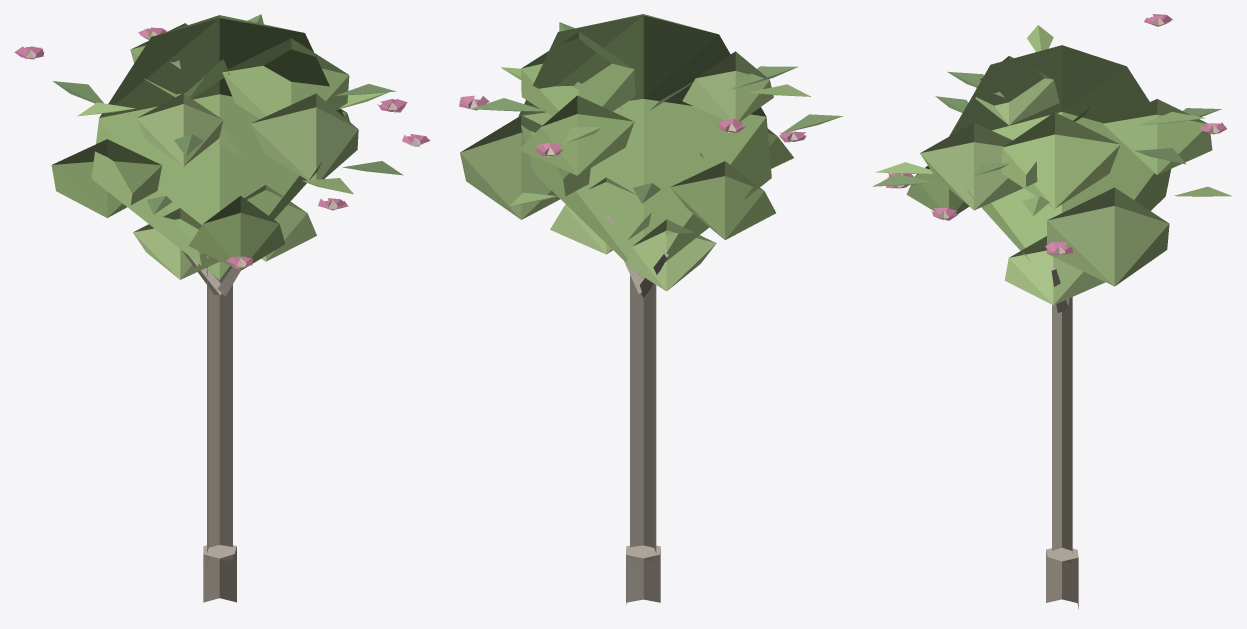
The model's file is shu.baigan__bloom.glb.
3 views of the same model, side by side, from view 1: azimuth 30°, elevation 25°; view 2: azimuth 150°, elevation 25°; view 3: azimuth 270°, elevation 25° (orthographic). The views are drawn at different scales.
Visible parts, largest first — view 1: shu.baigan__bloom; view 2: shu.baigan__bloom; view 3: shu.baigan__bloom.
Boxes of the visible parts, x1,y1,x2,y2 form: shu.baigan__bloom: [14, 14, 430, 602]; shu.baigan__bloom: [459, 14, 843, 604]; shu.baigan__bloom: [873, 14, 1232, 609].
Bounding box in the file's own units: 9.1 × 15.12 × 8.8.
